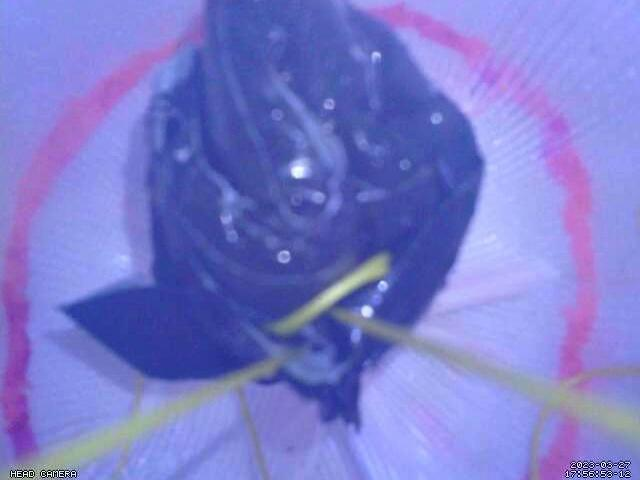head: (0, 1, 600, 480)
